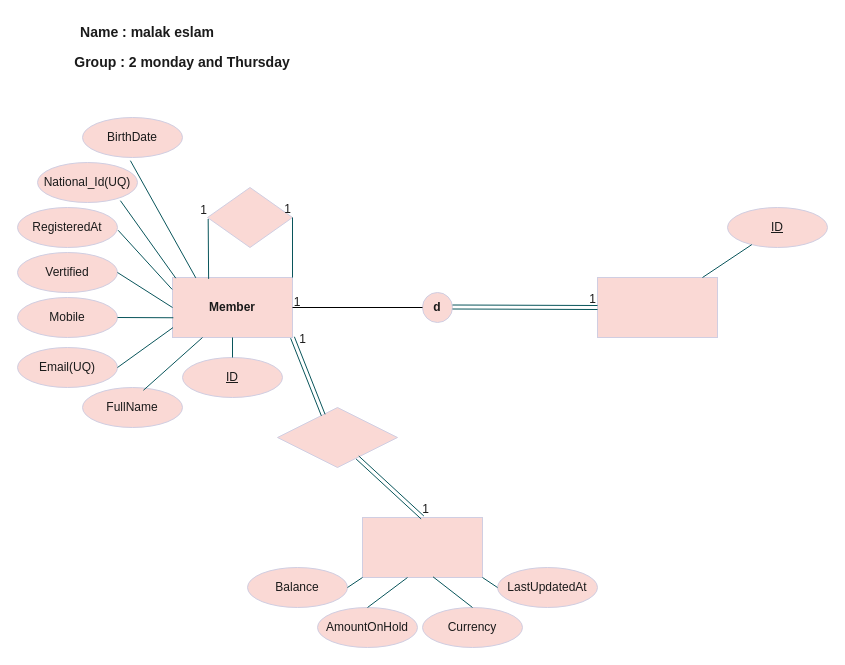
Some shapes in this 845 by 665 pixel diagram are drawn without their labels. Here are the shapes that lost their labels. From the top down, the centre of each, then its label:
the point at 249,217: Invites
the point at 657,307: Employee
the point at 337,437: Owns
the point at 422,547: Wallet
